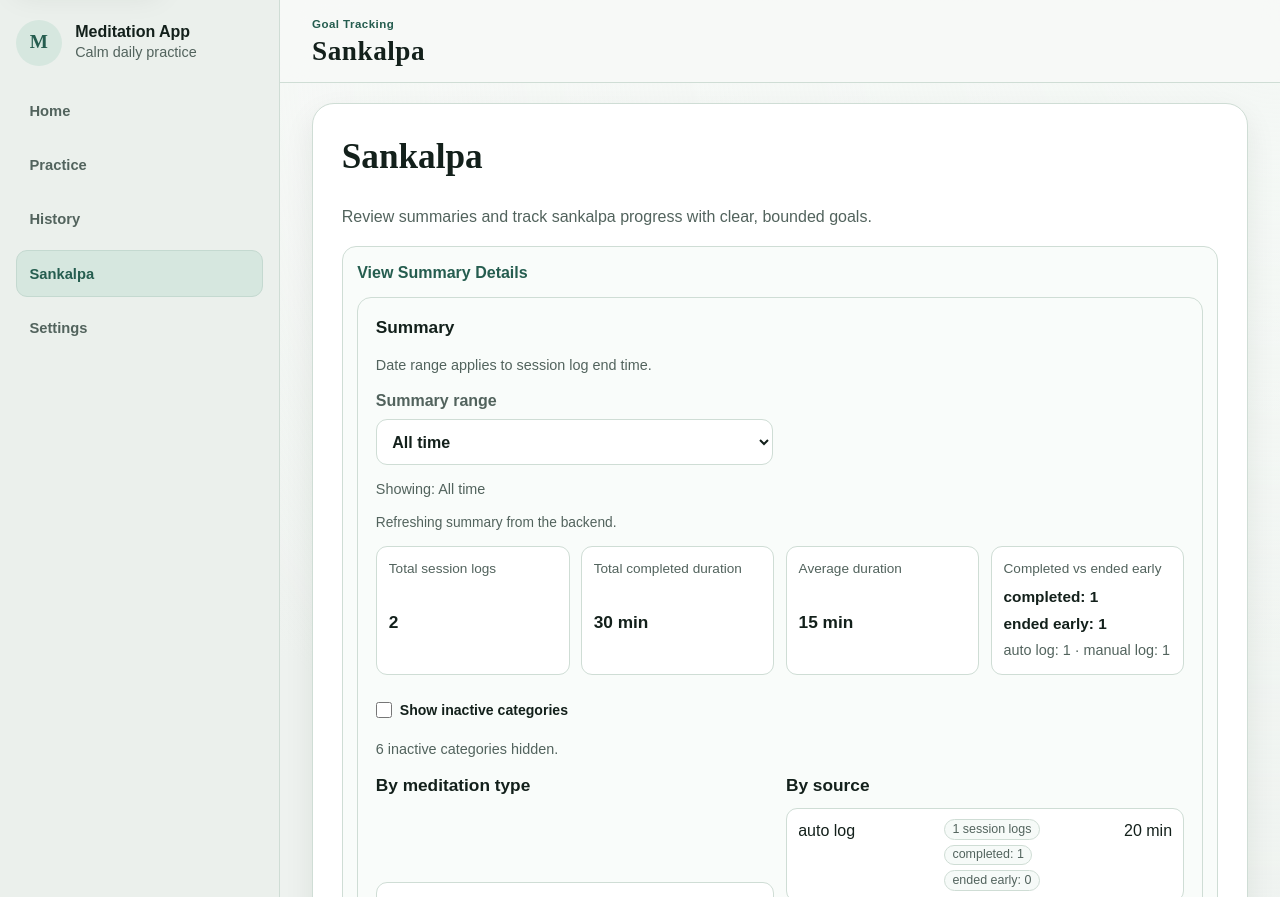
it: Sankalpa summary UX › does not render summary metrics for an invalid custom date range
The width and height of the screenshot is (1280, 897).
Expected: the heading "Summary" is shown, [376, 317, 454, 337]
Expected: the text "Total completed duration" is shown, [594, 561, 742, 576]
Select "Custom range" in the dropdown labelled "Summary range" at (574, 442), box [376, 419, 773, 465]
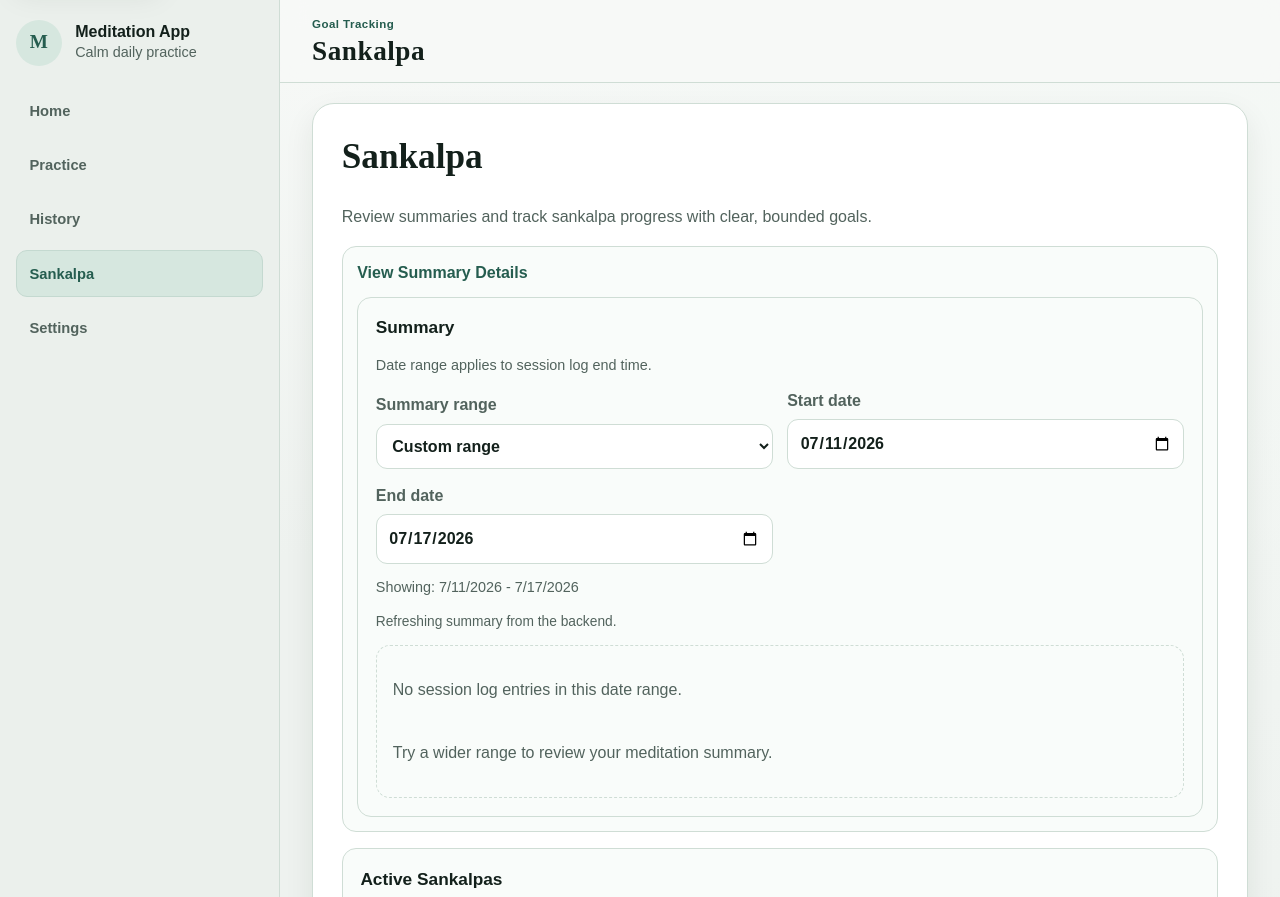
Type "2026-03-24" into the date field labelled "Start date" at (986, 444), box [787, 419, 1184, 469]
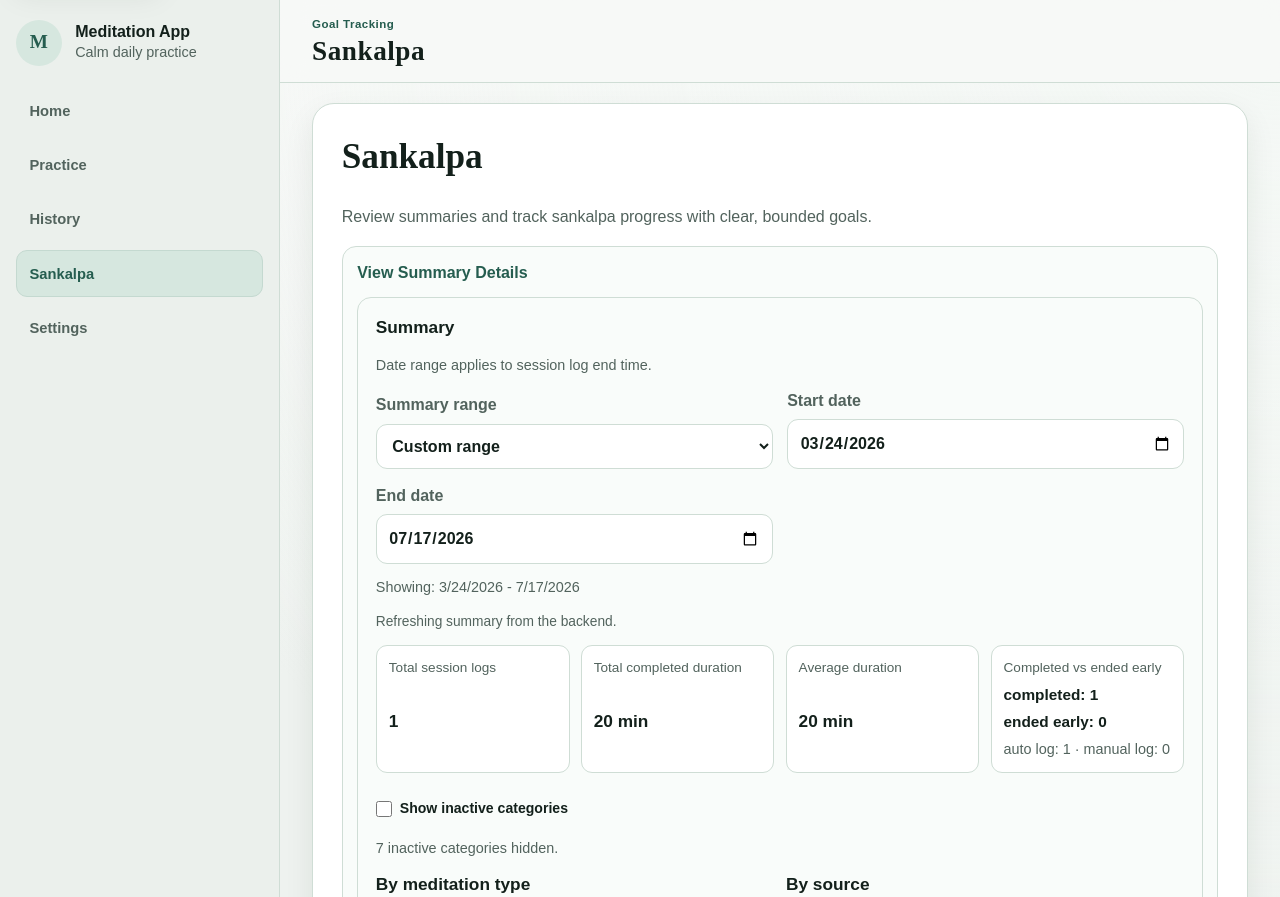
Type "2026-03-20" into the date field labelled "End date" at (574, 539), box [376, 514, 773, 564]
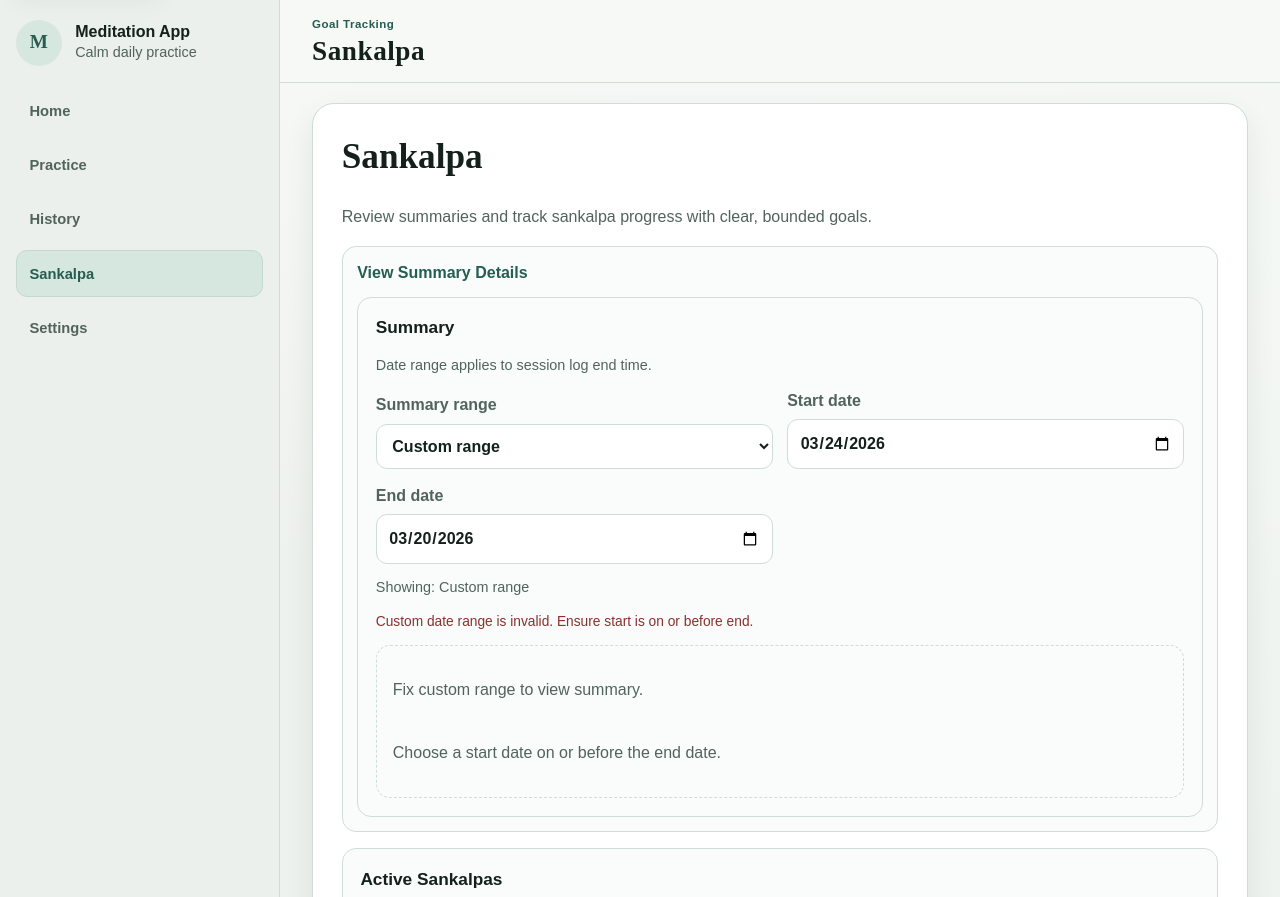
Expected: the text "Custom date range is invalid" is shown, [376, 614, 753, 629]
Expected: the text "Fix custom range to view summary." is shown, [393, 681, 643, 698]
Expected: the text "Total completed duration" is gone
